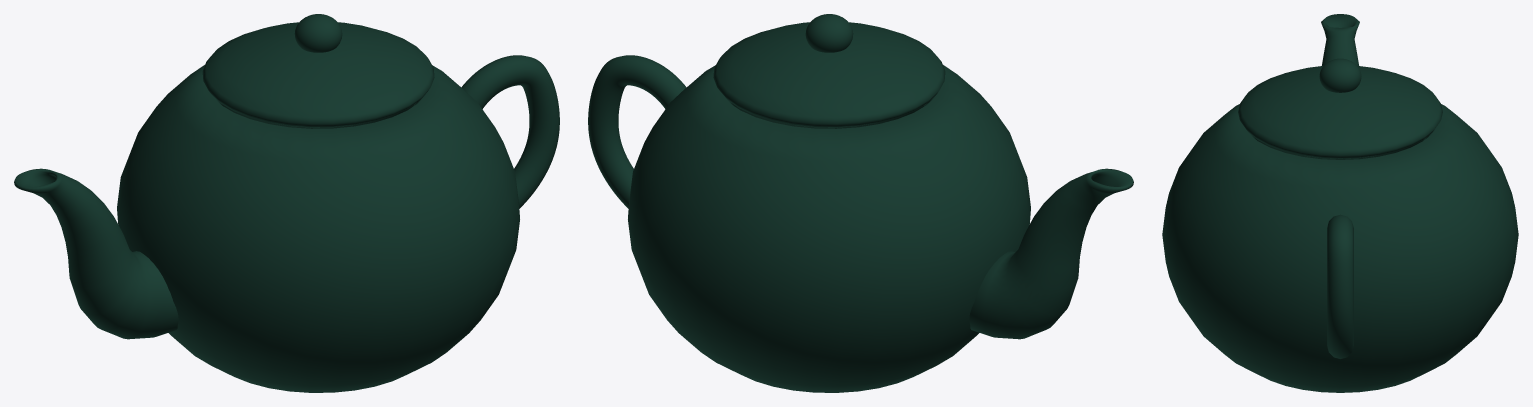
File: Teekanne.fbx
3 renders of one model, left to right at view 1: azimuth 30°, elevation 25°; view 2: azimuth 150°, elevation 25°; view 3: azimuth 270°, elevation 25°, orthographic. The views are drawn at different scales.
Parts seen in each view (by area): view 1: Teekanne, Teekanne_Deckel; view 2: Teekanne, Teekanne_Deckel; view 3: Teekanne, Teekanne_Deckel.
Boxes of the visible parts, x1,y1,x2,y2 form: Teekanne: (14, 55, 559, 392); Teekanne_Deckel: (202, 14, 434, 127); Teekanne: (588, 55, 1133, 392); Teekanne_Deckel: (713, 14, 945, 127); Teekanne: (1162, 14, 1518, 392); Teekanne_Deckel: (1238, 58, 1442, 158).
Size of the model in its own units: 309 by 183 by 200.
